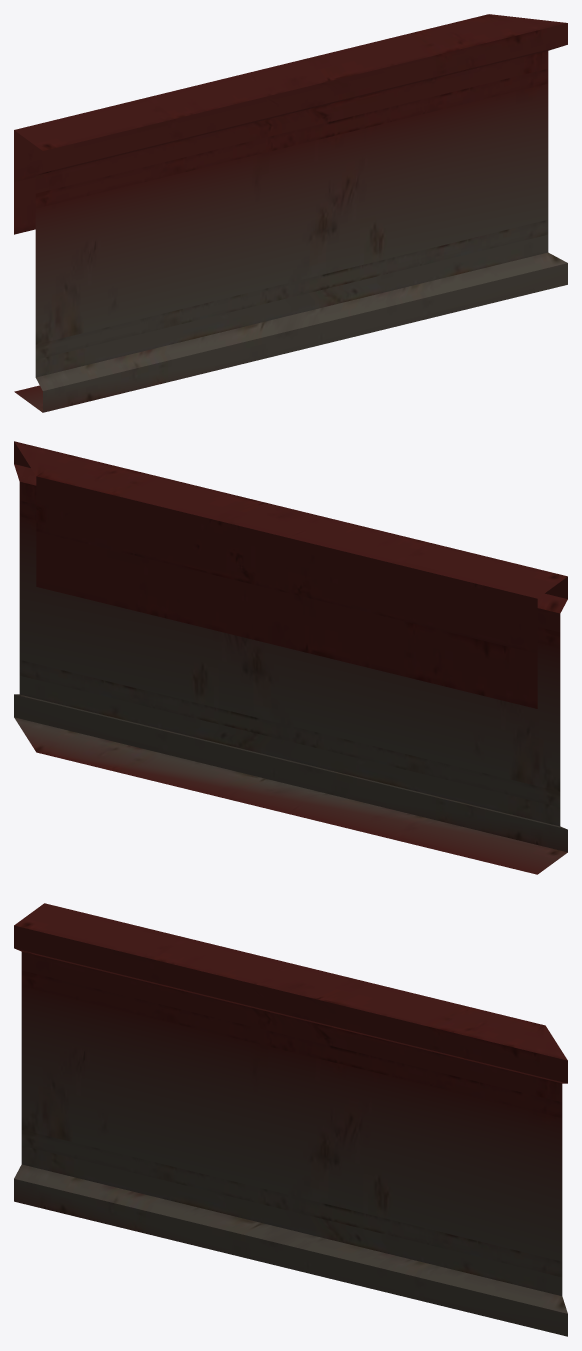
File: Cornice_Metal_R.glb
3 views of the same model, one above another, from view 1: azimuth 30°, elevation 25°; view 2: azimuth 150°, elevation 25°; view 3: azimuth 330°, elevation 25° (orthographic). The views are drawn at different scales.
Parts seen in each view (by area): view 1: Cornice_Metal_R; view 2: Cornice_Metal_R; view 3: Cornice_Metal_R.
Part boxes in pixels (x1,y1,x2,y2): Cornice_Metal_R: [14, 14, 567, 412]; Cornice_Metal_R: [14, 441, 567, 874]; Cornice_Metal_R: [14, 903, 567, 1336].
Bounding box in the file's own units: 2.1 × 1 × 0.2.
1 material, 1 textured.
